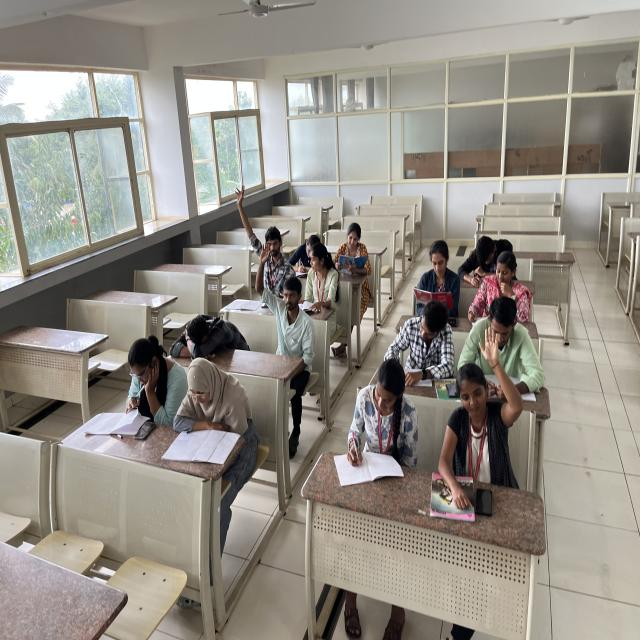Hand Rising: (443, 333, 527, 475), (256, 242, 316, 358), (231, 183, 291, 287)
Reading: (88, 326, 180, 432), (170, 357, 250, 456), (411, 242, 463, 312), (330, 224, 371, 281)
Sleeping: (171, 304, 257, 360)
Writing: (340, 354, 421, 480), (389, 298, 449, 381)
